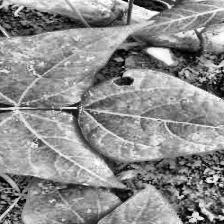ALS: (78, 71, 224, 161), (0, 19, 144, 105), (22, 180, 117, 224)
